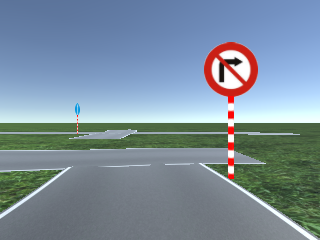-5: (1, 189, 320, 239)
NoRight: (203, 42, 259, 97)
